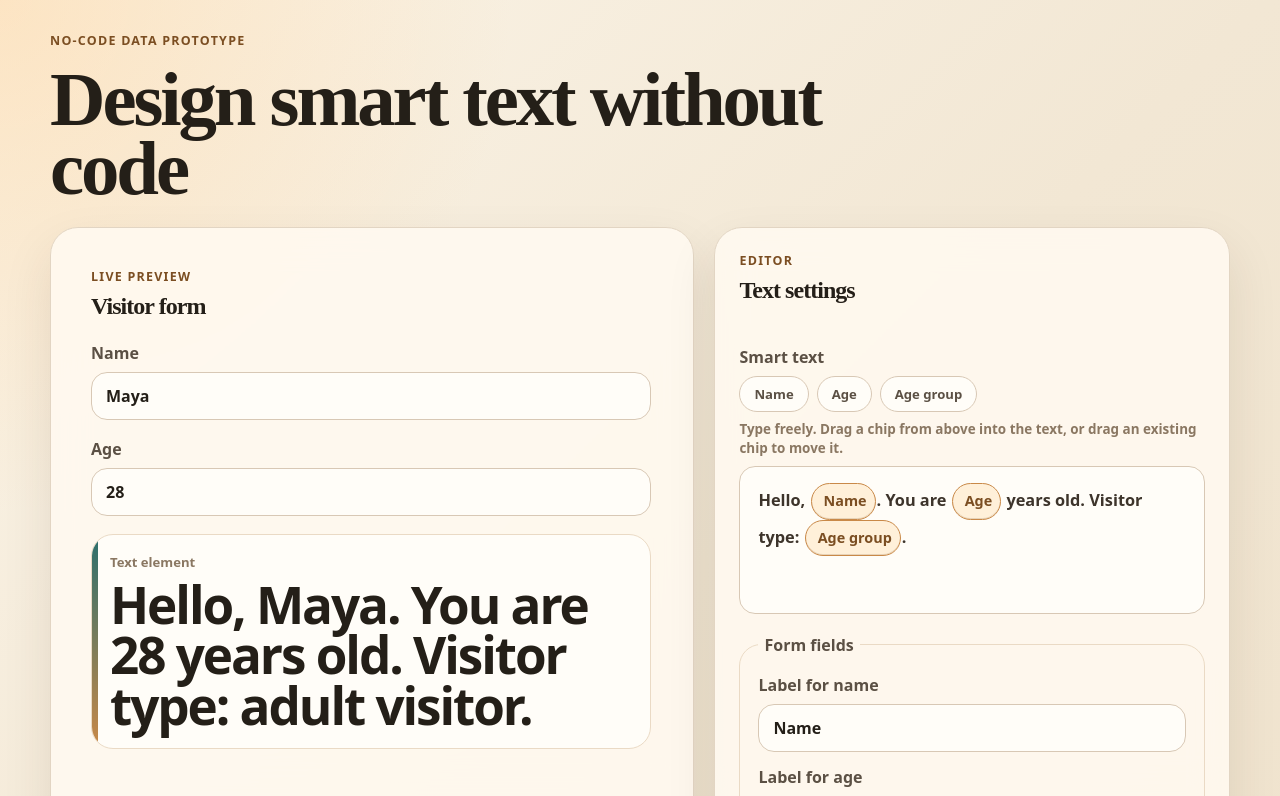
it: App › lets users rename form fields without changing the answer connection
Replace the text in the field labelled "Label for name" with "First name" at (972, 728), box [758,704,1186,752]
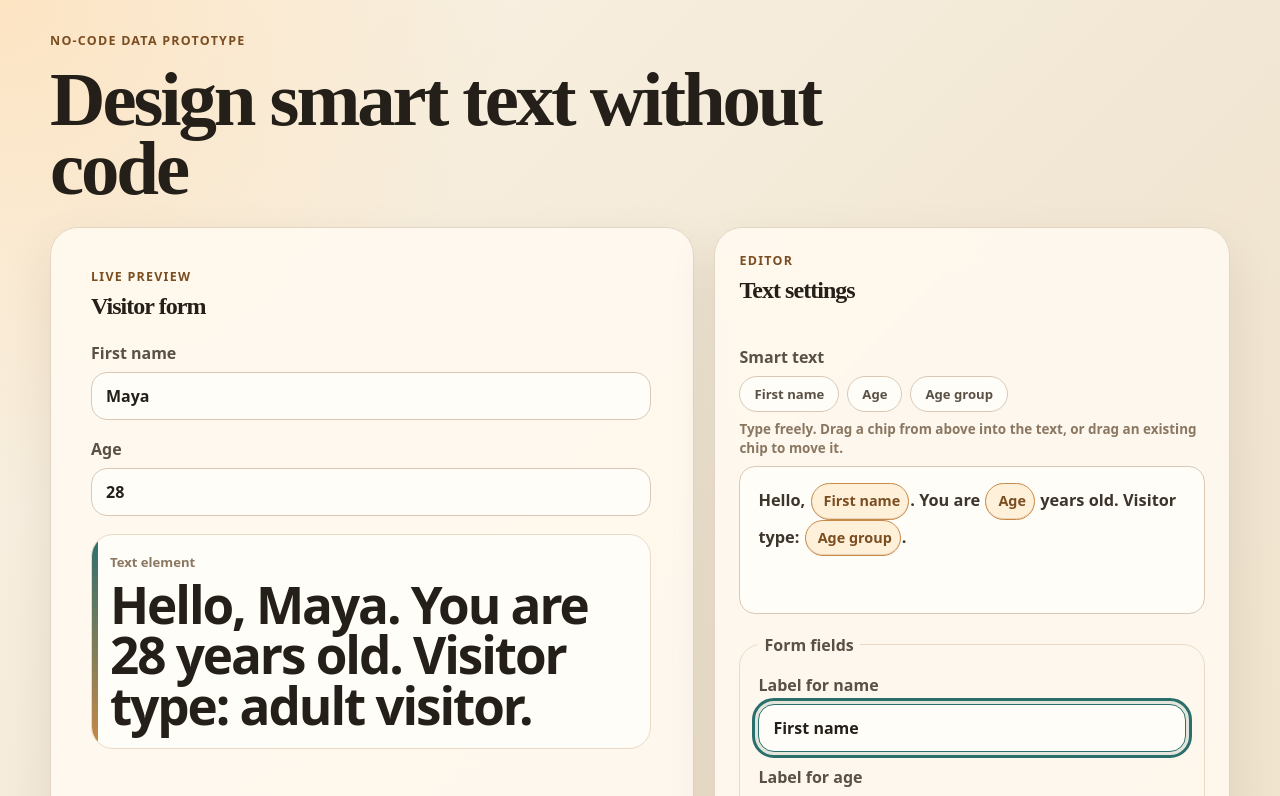
Expected: the field labelled "First name" holds "Maya", [91,372,651,420]
Expected: the button "First name" is shown, [739,376,839,412]
